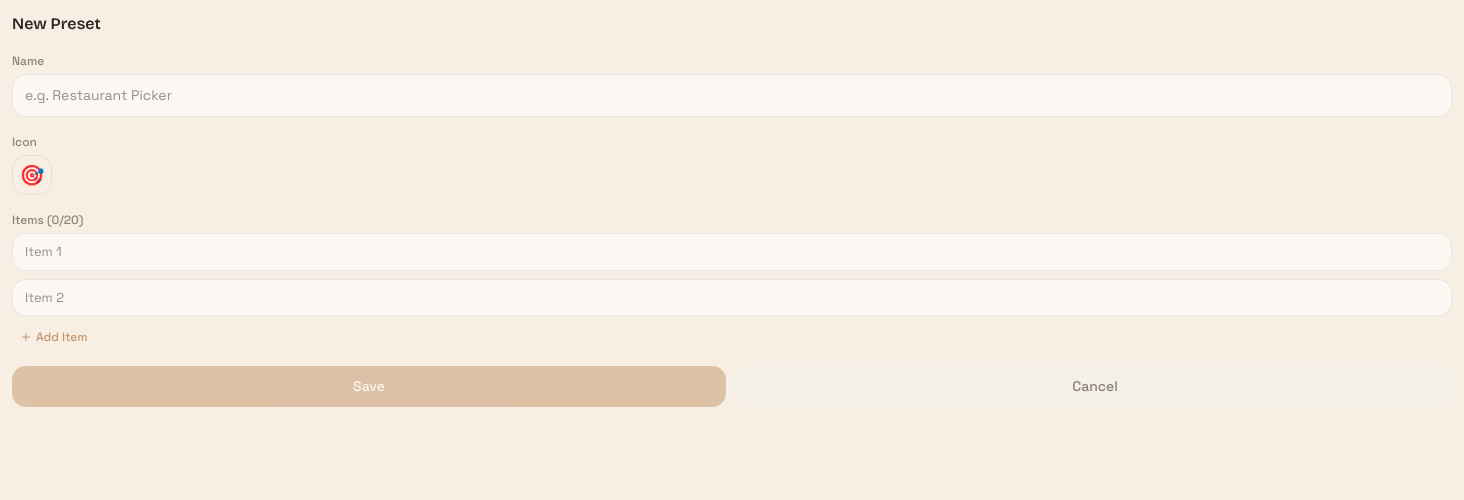
it: CreatePresetForm › shows emoji grid when icon button is clicked
This screenshot has width=1464, height=500.
Click the button with test id "icon-picker-btn".
click(32, 175)  # box [12,155,52,195]
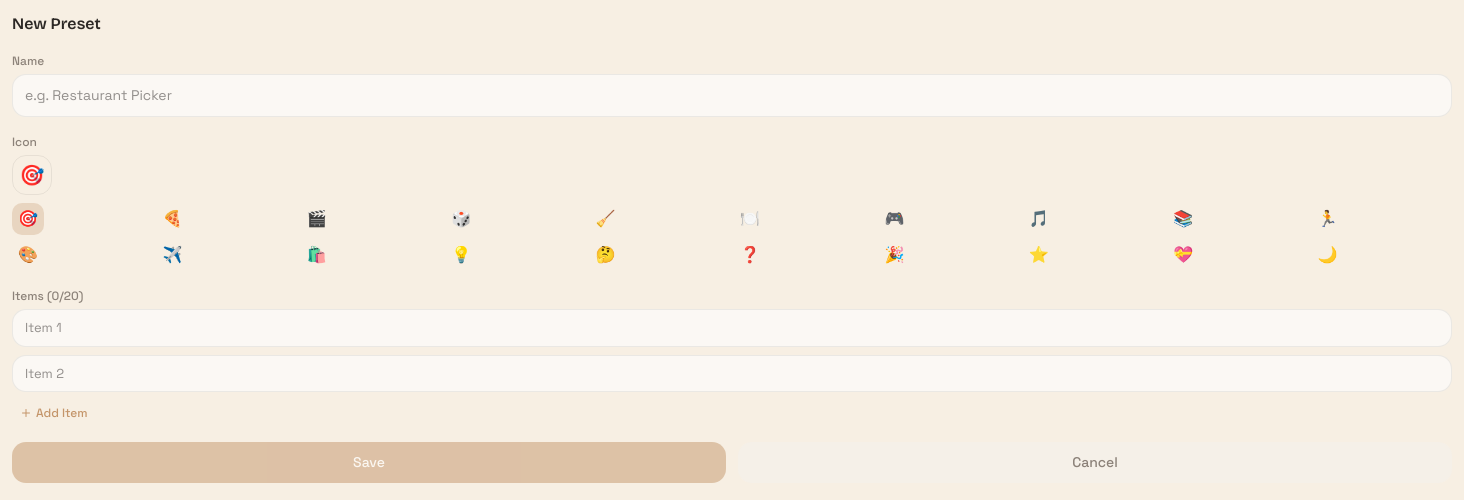
Expected: the element with test id "emoji-grid" is shown, [12,203,1452,271]
